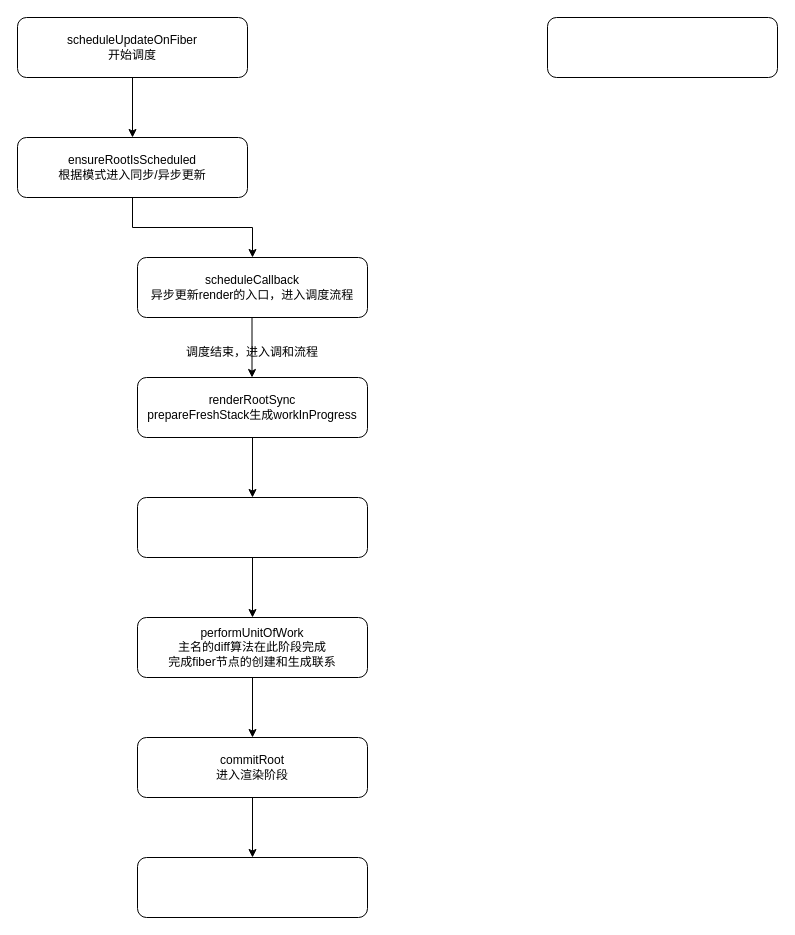
Image size: 795x935. Some labels were removed from this diagram. Each missing label, with the centre of its shape:
"ensureRootIsScheduled 渲染完成，触发一次新的调度，确保任何腹肌爱的任务被调度" belongs at (x=252, y=887).
"renderRootSync prepareFreshStack生成workInProgress 开始调和" belongs at (x=662, y=47).
"workLoopSync 循环workInProgress直到为空 为空意味完成了整颗Fiber树的构建" belongs at (x=252, y=527).
